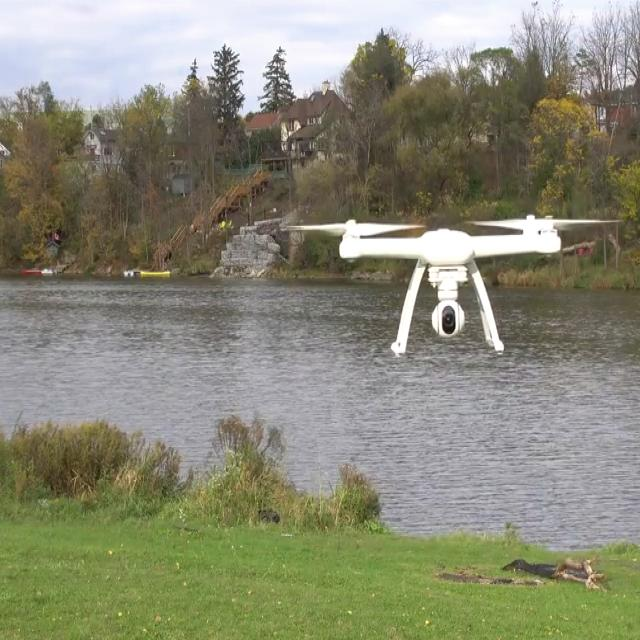drone: (301, 196, 595, 312)
